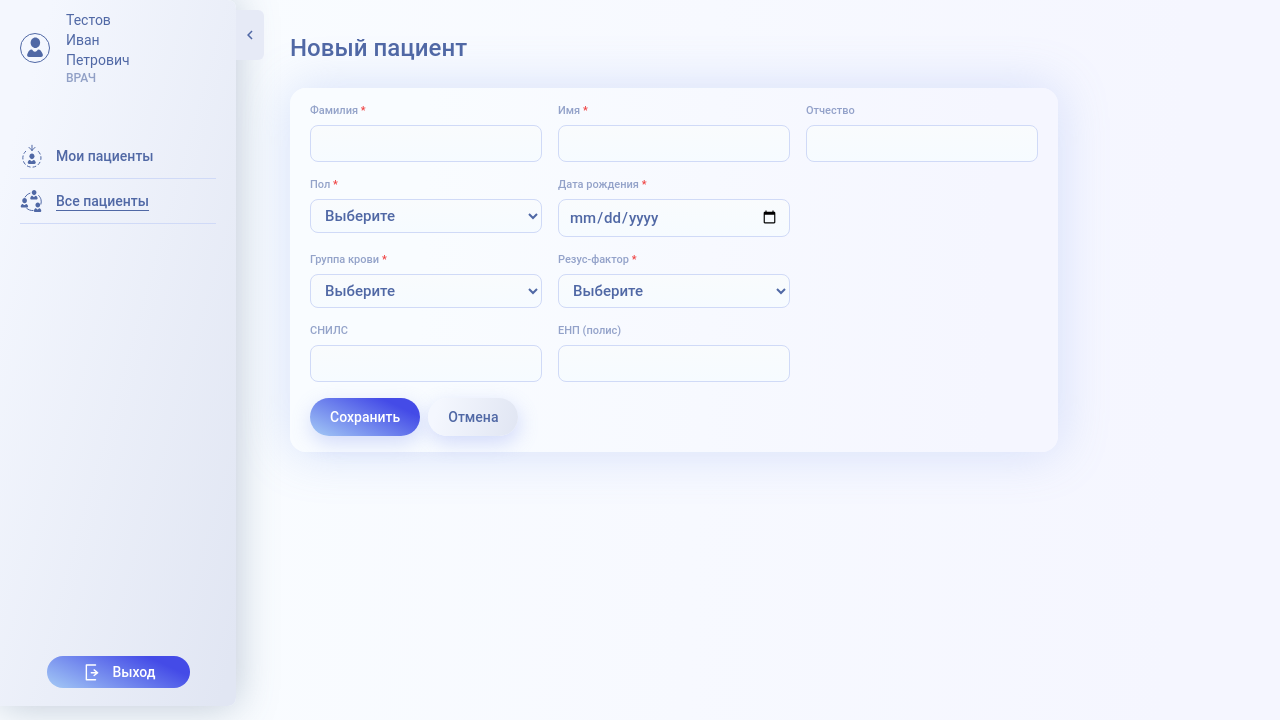
it: карточка пациента › показывает ошибку дубликата от сервера
Type "Иванов" into the field labelled "Фамилия *" at (426, 143), box [310,125,542,162]
Type "Иван" into the field labelled "Имя *" at (674, 143), box [558,125,790,162]
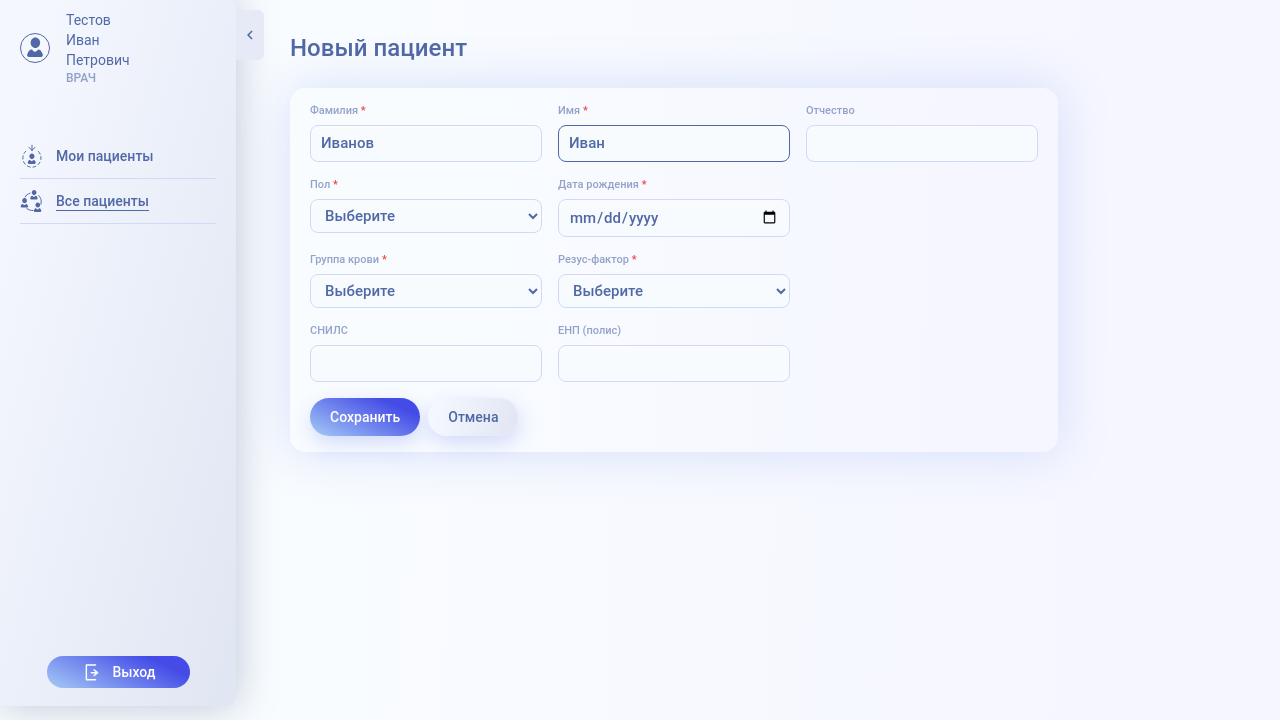
Select "Мужской" in the dropdown labelled "Пол *" at (426, 216), box [310,198,542,232]
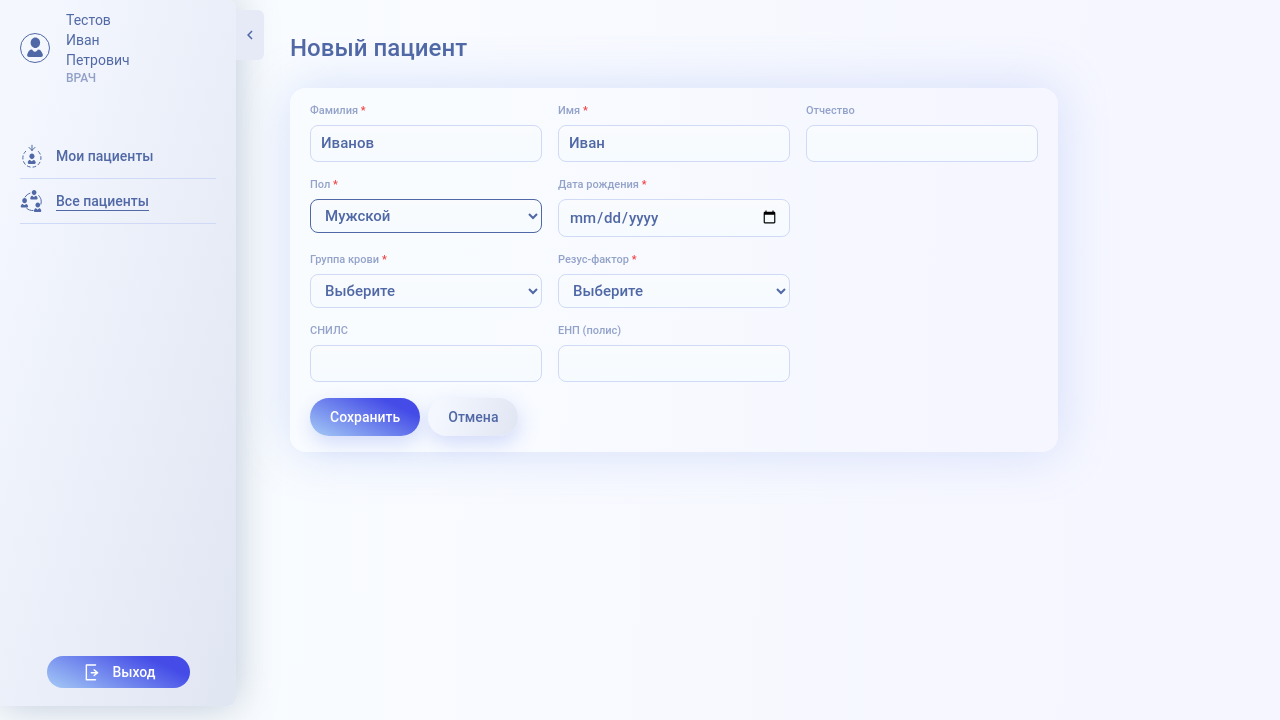
Type "1980-05-17" into the date field labelled "Дата рождения *" at (674, 218), box [558,198,790,237]
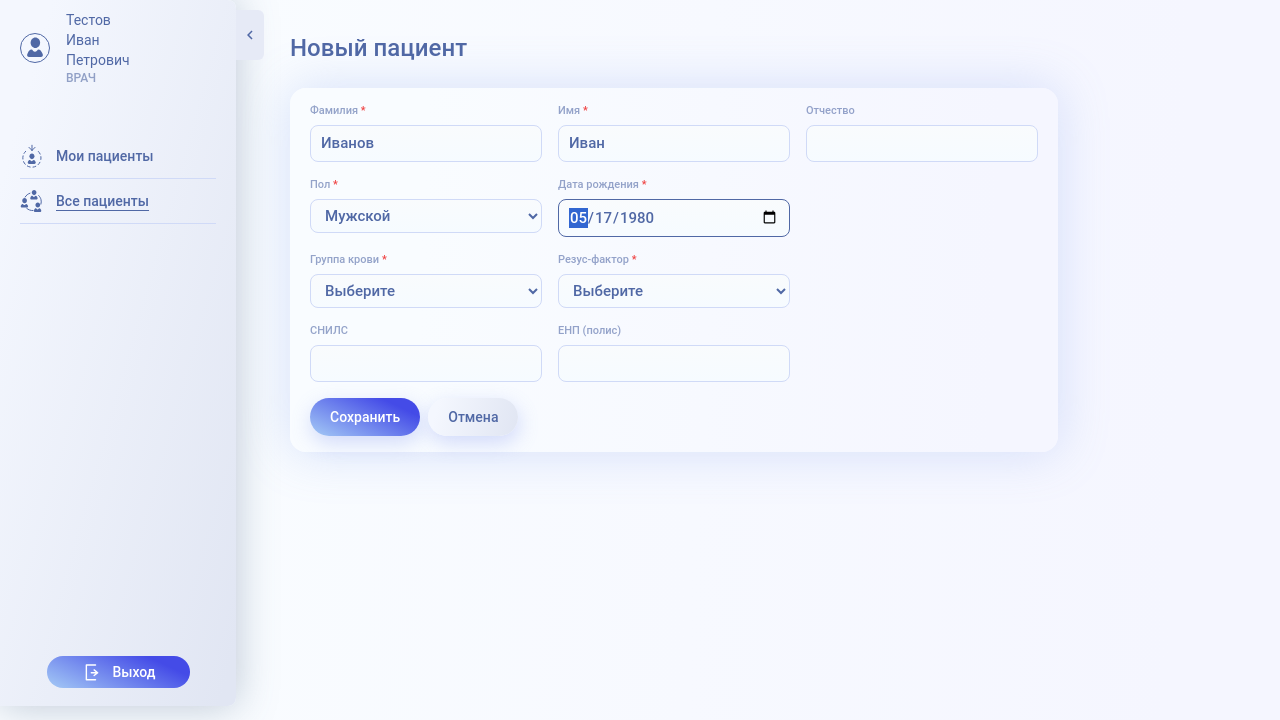
Select "Мужской" in the dropdown labelled "Группа крови *" at (426, 291), box [310,274,542,308]
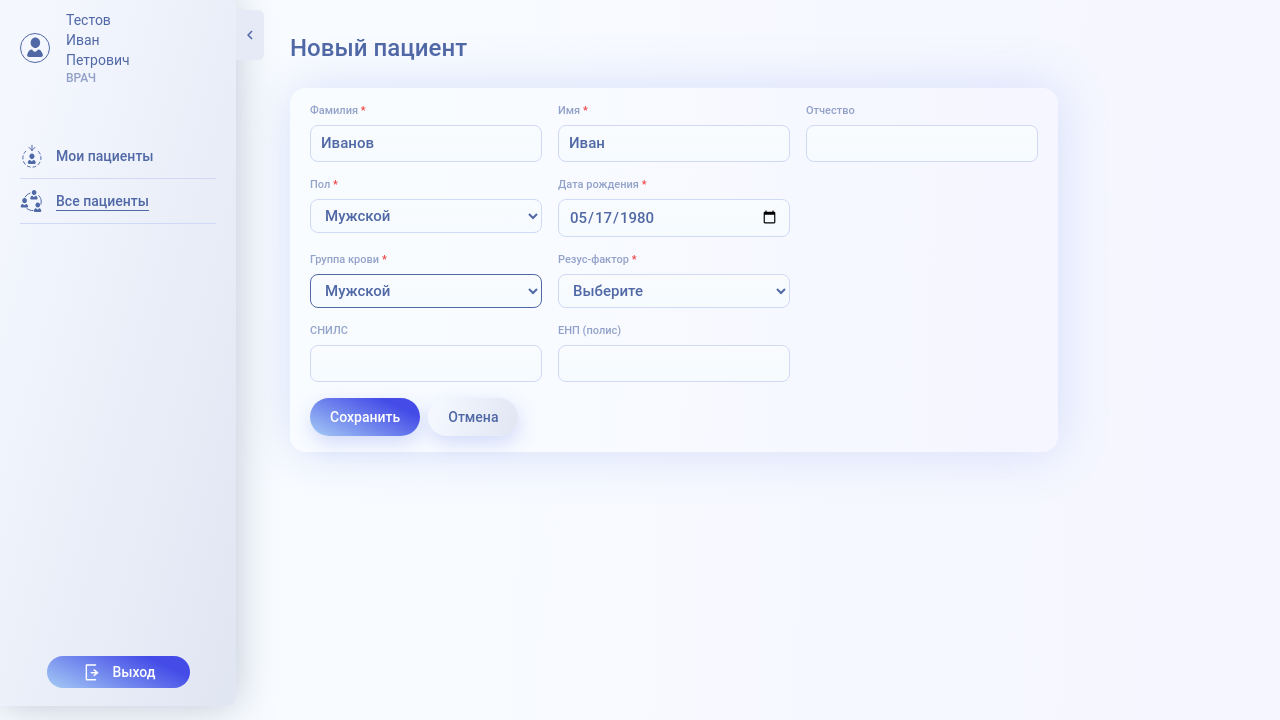
Select "Мужской" in the dropdown labelled "Резус-фактор *" at (674, 291), box [558,274,790,308]
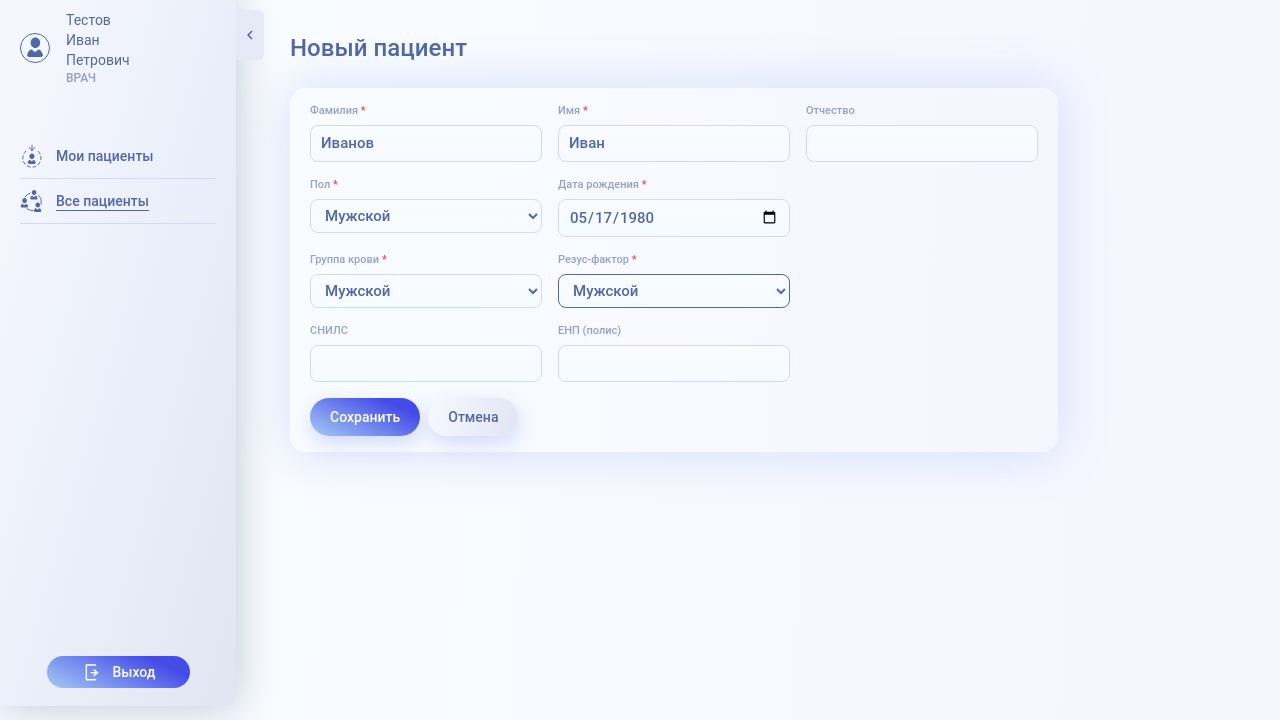
Click the button "Сохранить" at (365, 416), box [310,398,420,436]
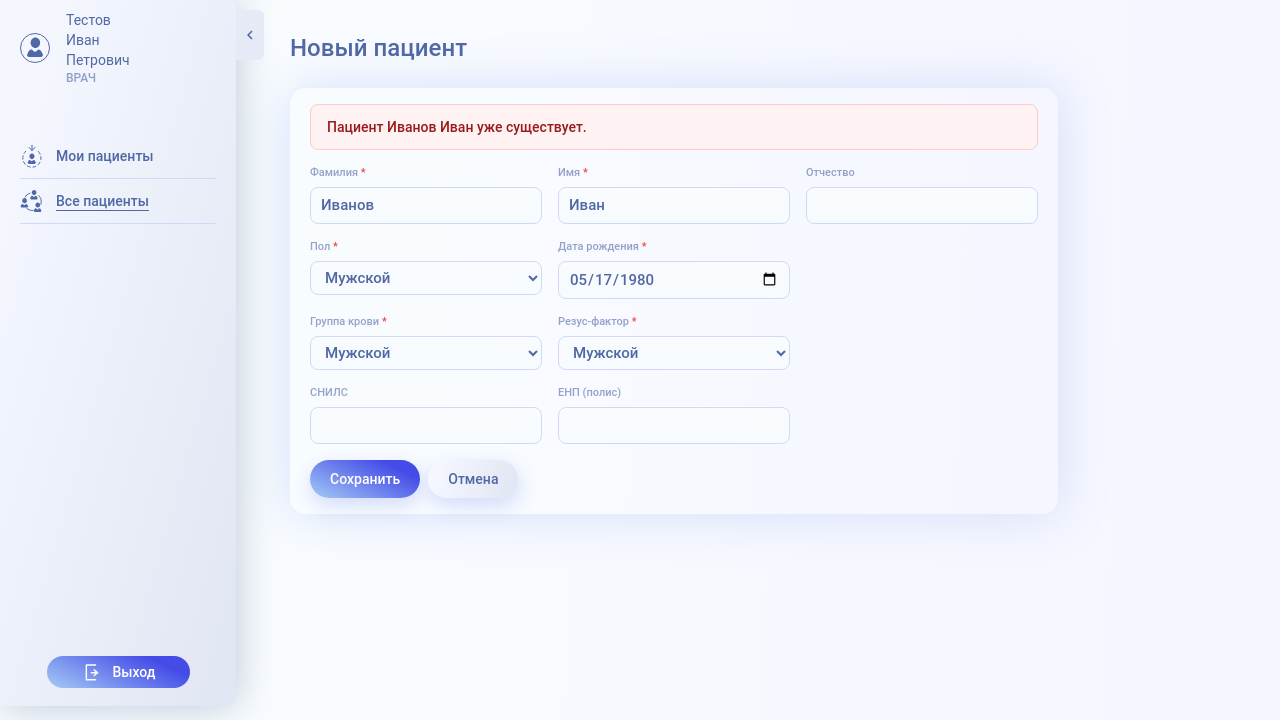
Check: the text "Пациент Иванов Иван уже существует." is shown, box [327,117,587,137]
